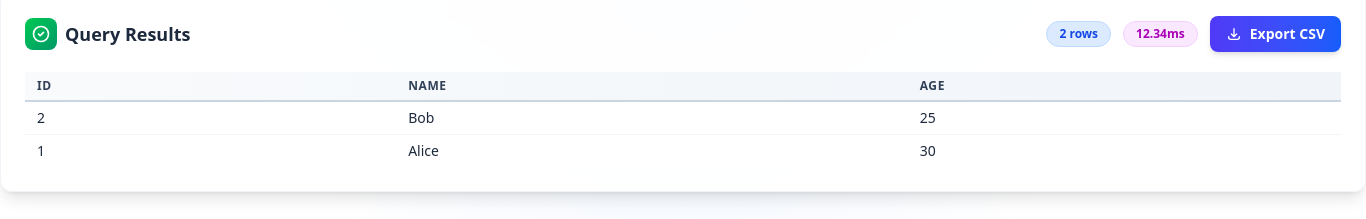
Scenario: QueryResults › column sorting › sorts ascending on first click
# Click 'name' column header
Click the text "name" at coordinates (427, 86), box [408,78,447,94]
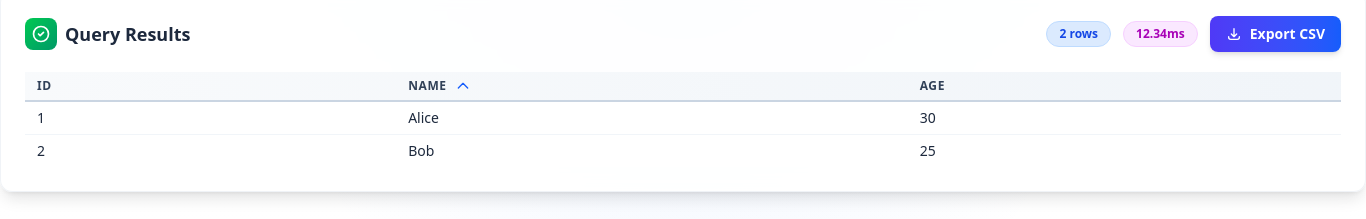
Expected: the row "1 Alice 30" is shown, [25,101,1341,134]
Expected: the row "2 Bob 25" is shown, [25,134,1341,167]
